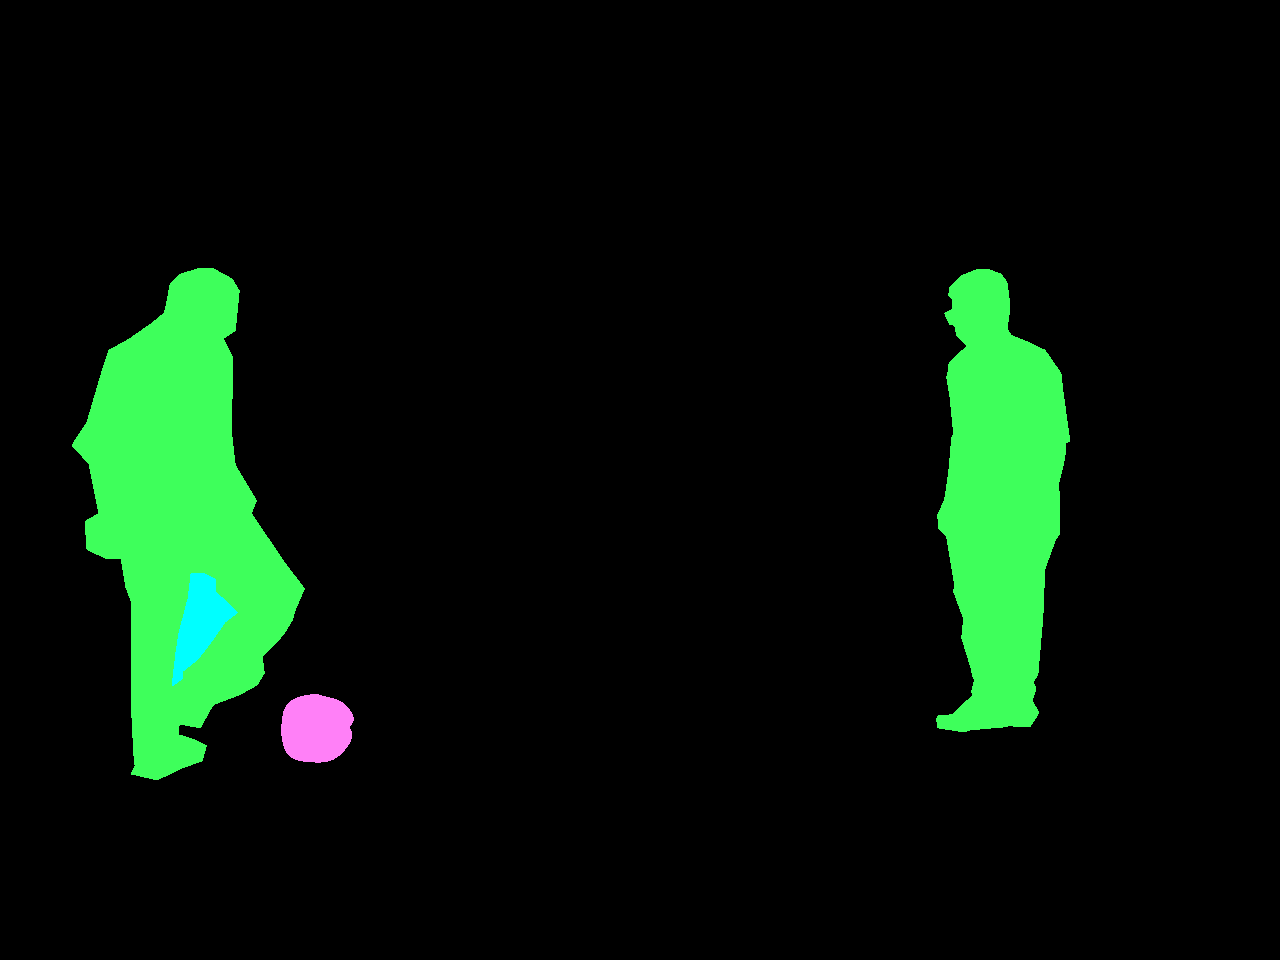Ball: (283, 695, 354, 762)
Person: (73, 269, 305, 780), (937, 270, 1070, 732)
ignore: (173, 574, 238, 686)
